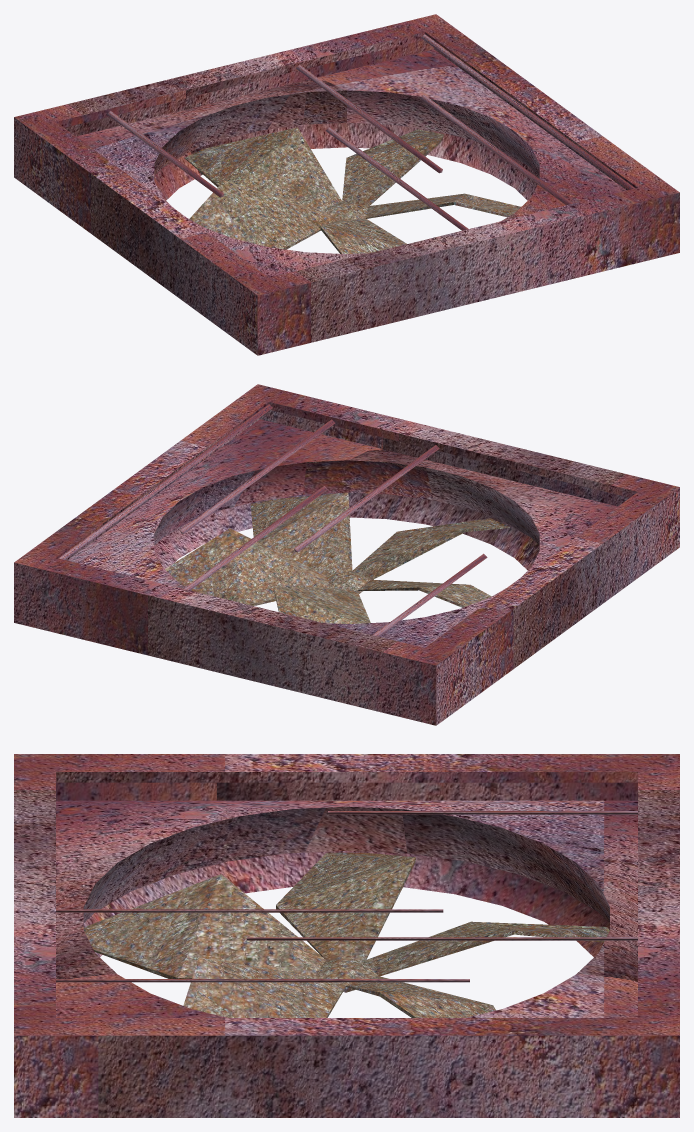
The model's file is AirVentFan.FBX.
3 views of the same model, one above another, from view 1: azimuth 30°, elevation 25°; view 2: azimuth 150°, elevation 25°; view 3: azimuth 270°, elevation 25° (orthographic). The views are drawn at different scales.
Parts seen in each view (by area): view 1: Box001, Cylinder001, Cylinder002, Cylinder005, Cylinder008, Cylinder010, Cylinder003; view 2: Box001, Cylinder001, Cylinder002, Cylinder005, Cylinder010, Cylinder008, Cylinder003; view 3: Box001, Cylinder001, Cylinder005, Cylinder008, Cylinder010, Cylinder003.
Part boxes in pixels (box(x1,y1,x2,y2)): Box001: box(14, 14, 679, 355); Cylinder001: box(184, 127, 520, 253); Cylinder002: box(421, 34, 635, 189); Cylinder005: box(420, 94, 572, 205); Cylinder008: box(296, 64, 442, 173); Cylinder010: box(325, 127, 468, 230); Cylinder003: box(107, 111, 223, 197); Box001: box(14, 384, 679, 725); Cylinder001: box(165, 492, 509, 623); Cylinder002: box(58, 404, 272, 559); Cylinder005: box(180, 419, 335, 533); Cylinder010: box(294, 445, 439, 552); Cylinder008: box(184, 486, 327, 590); Cylinder003: box(373, 553, 487, 636); Box001: box(14, 754, 679, 1117); Cylinder001: box(83, 852, 609, 1017); Cylinder005: box(56, 979, 469, 982); Cylinder008: box(246, 937, 637, 940); Cylinder010: box(56, 909, 443, 912); Cylinder003: box(328, 811, 637, 814).
Bounding box in the file's own units: 561 × 94.41 × 561.
Materials: 2 (2 with a texture image).
